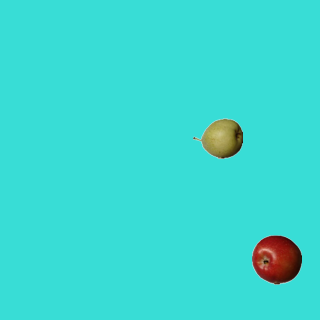Apple Braeburn: (251, 234, 301, 284)
Pear: (192, 113, 242, 163)
